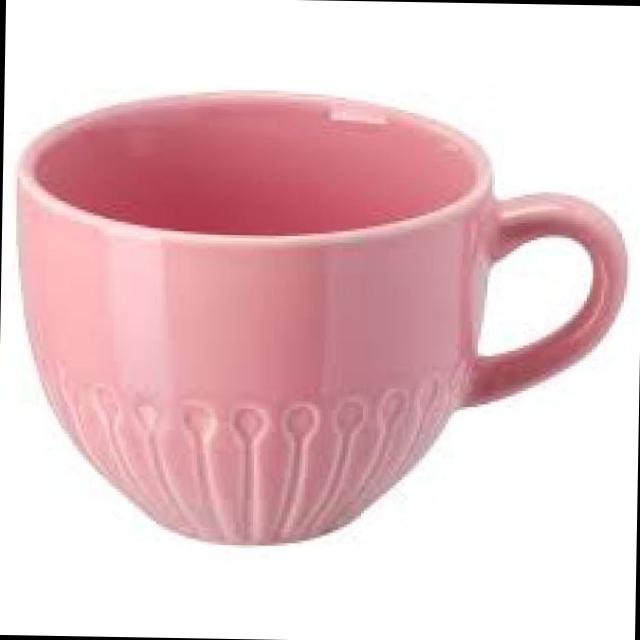Coffee Mug: (12, 82, 632, 546)
